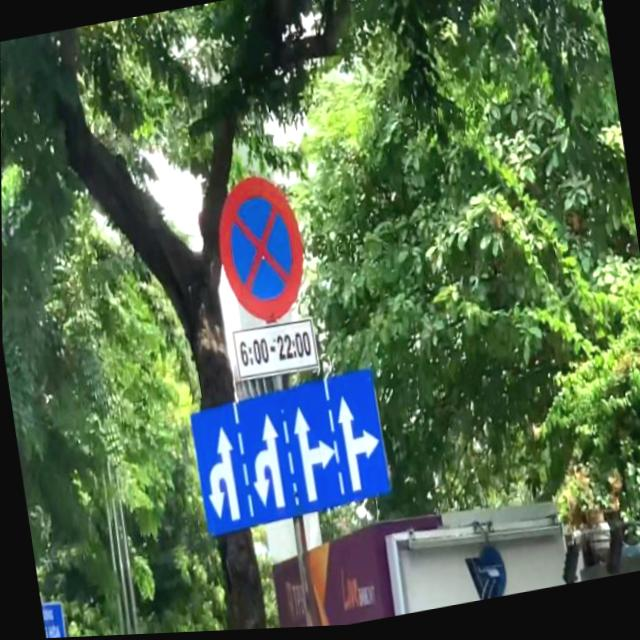Cam dung xe va do xe: (210, 172, 312, 332)
